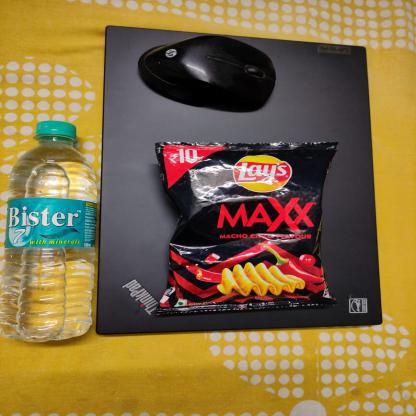max_chili: (156, 140, 335, 307)
